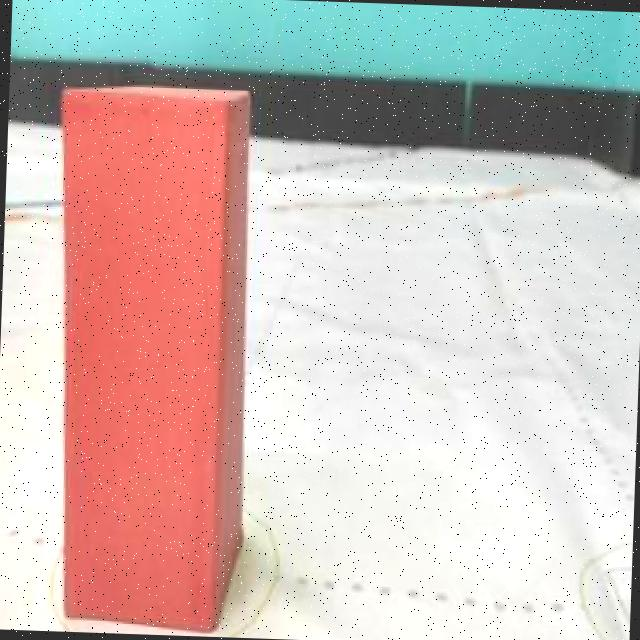redbox: (40, 77, 257, 634)
